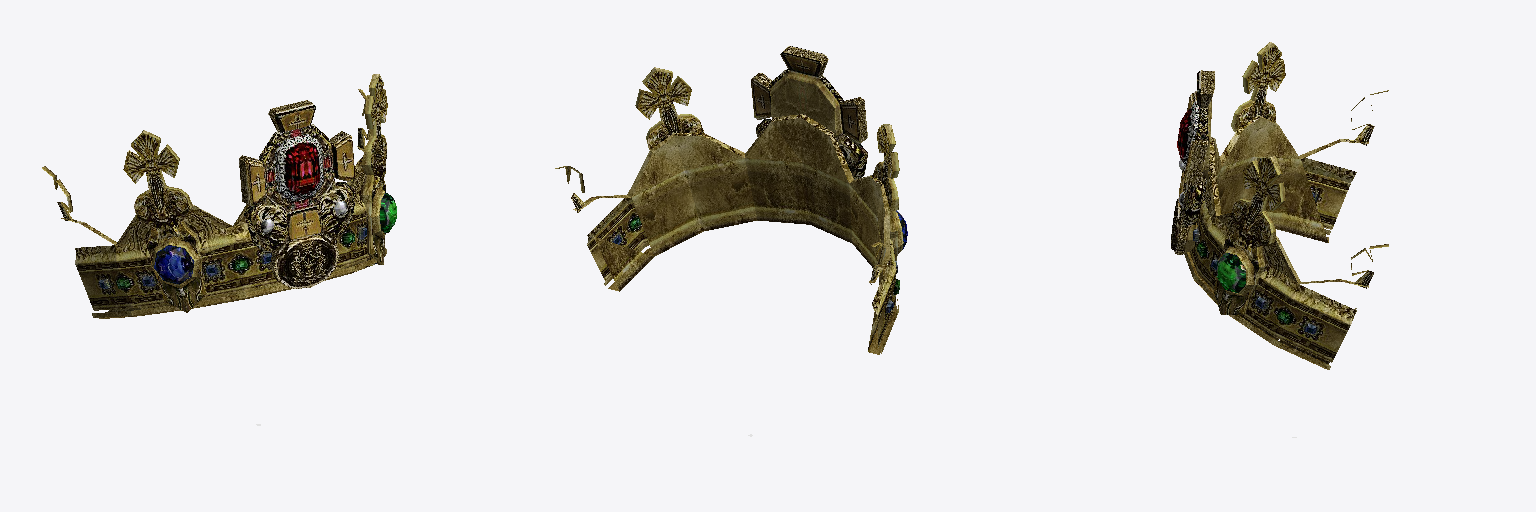
3 renders of one model, left to right at view 1: azimuth 30°, elevation 25°; view 2: azimuth 150°, elevation 25°; view 3: azimuth 270°, elevation 25°, orthographic.
Visible parts, largest first — view 1: Mesh1 Group1 Model, Mesh19 Group1 Model, Mesh2 Group1 Model, Mesh5 Group1 Model; view 2: Mesh1 Group1 Model; view 3: Mesh1 Group1 Model, Mesh19 Group1 Model, Mesh2 Group1 Model.
Boxes of the visible parts, <box> form: Mesh1 Group1 Model: <box>42,74,396,318</box>; Mesh19 Group1 Model: <box>275,134,323,201</box>; Mesh2 Group1 Model: <box>92,248,386,317</box>; Mesh5 Group1 Model: <box>155,246,192,283</box>; Mesh1 Group1 Model: <box>573,46,903,354</box>; Mesh1 Group1 Model: <box>1171,42,1388,369</box>; Mesh19 Group1 Model: <box>1177,101,1198,168</box>; Mesh2 Group1 Model: <box>1184,229,1330,369</box>.
Size of the model in its own units: 0.209 by 0.2198 by 0.1231.
4 materials, 3 textured.